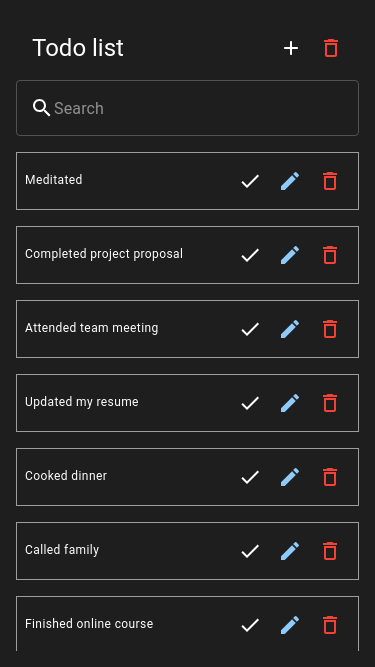
Should cover all functionalities from the todo list app in mobile environment › Should show an error message when the input is invalid
Click the button with test id "btn-add-task": [291, 48] box [271,28,311,68]
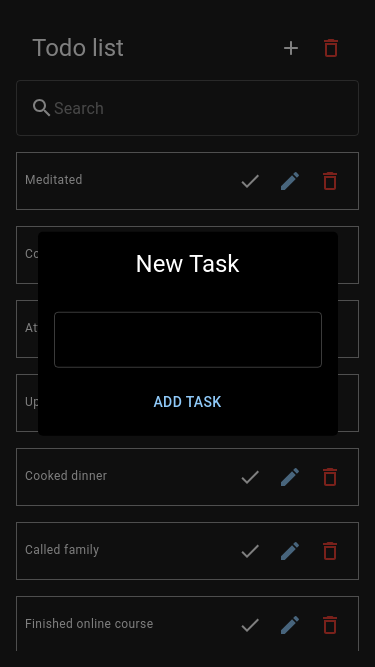
In the element with test id "input-create-task": [188, 339] box [54,311,322,367], type "n"
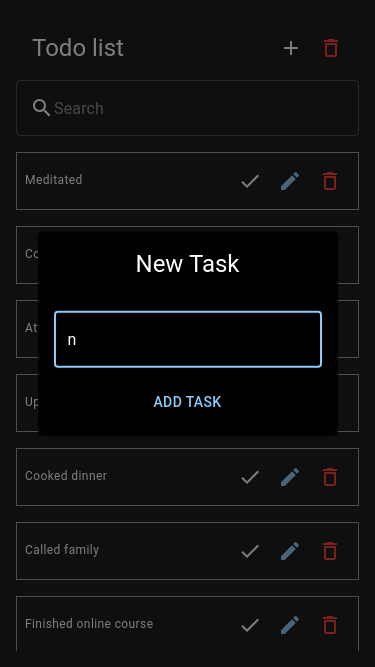
Click the button with test id "btn-submit": [188, 402] box [54,383,322,420]
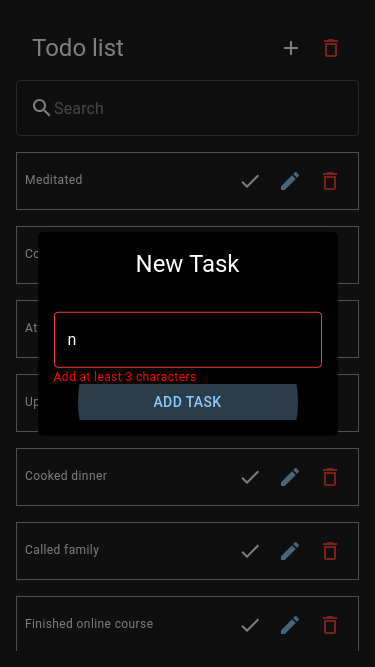
Check: the text "Add at least 3 characters" is shown, box [54,367,196,387]
